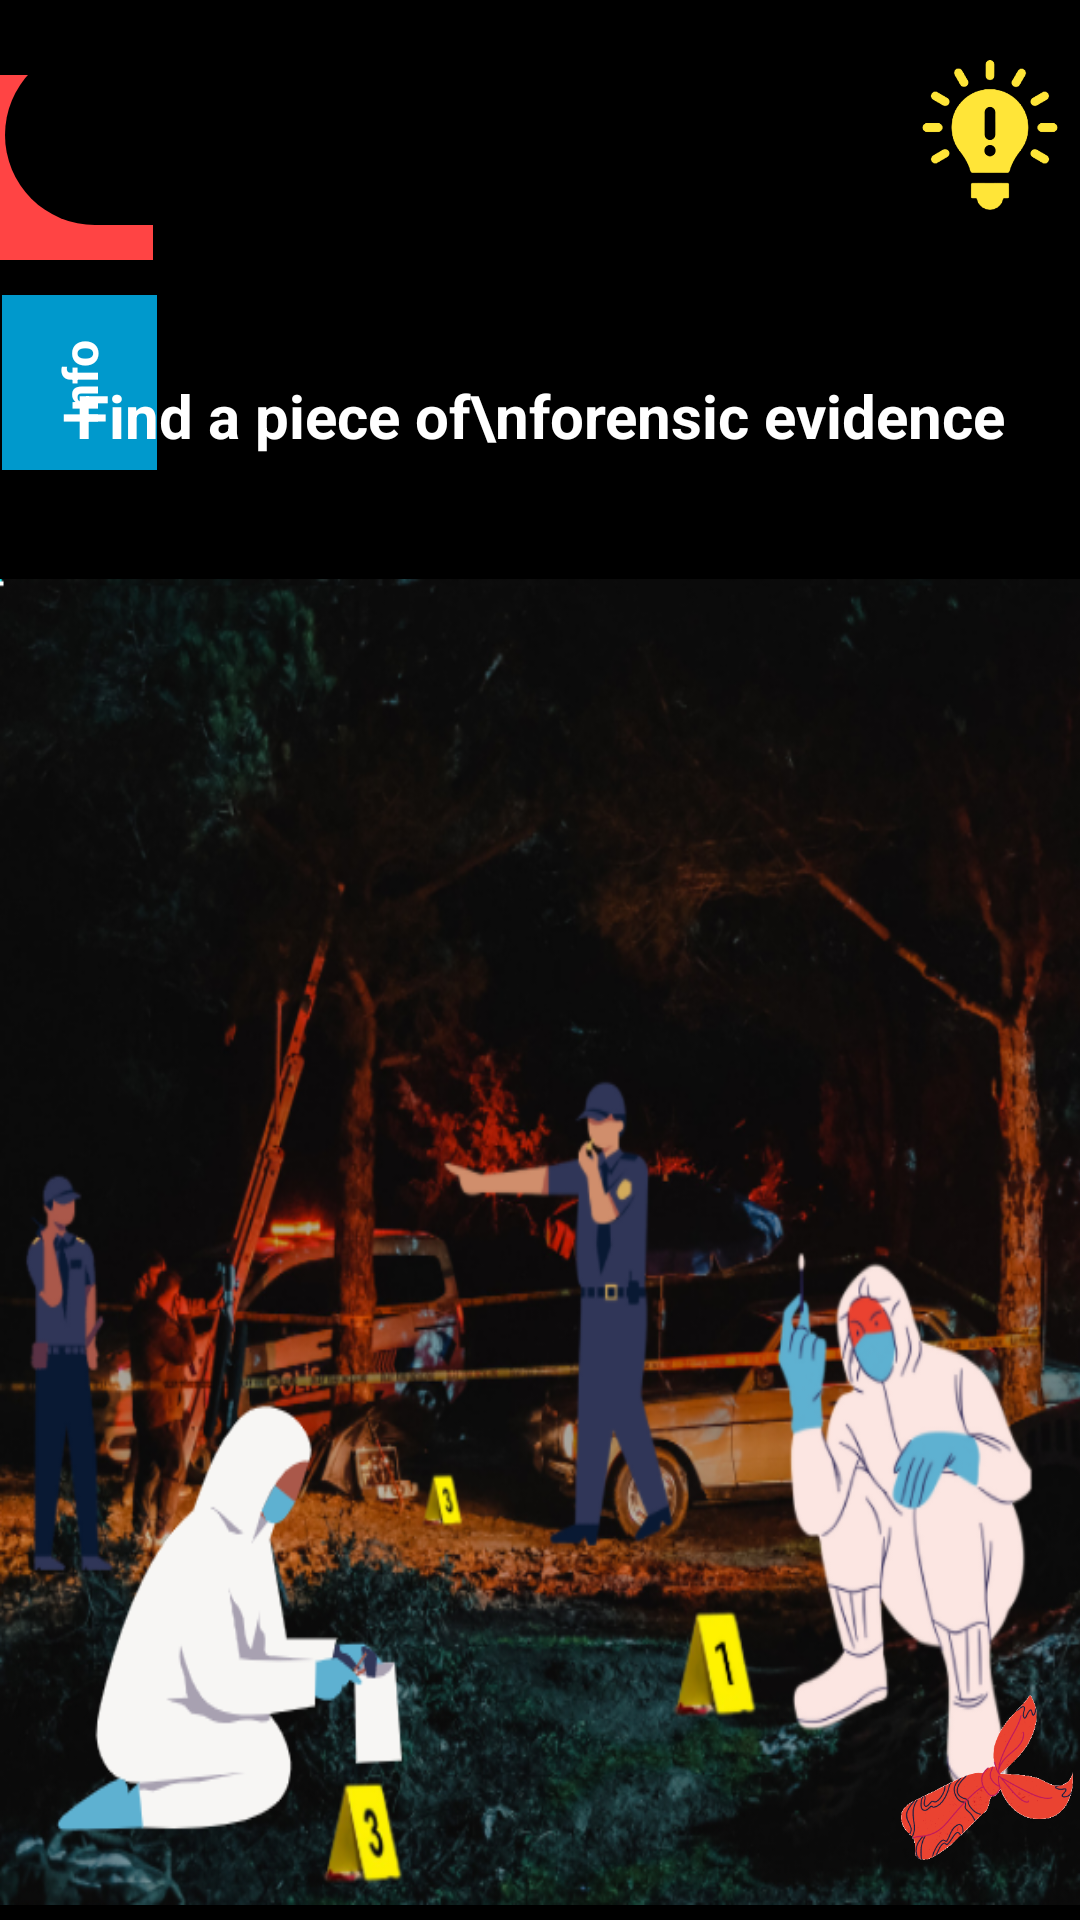

Locate icon controls on the screen. Image size 1080 × 1920, boxes as box(x1, y1, x2, y2).
bandana: box(901, 1695, 1078, 1860)
lightbulb: box(922, 60, 1058, 210)
